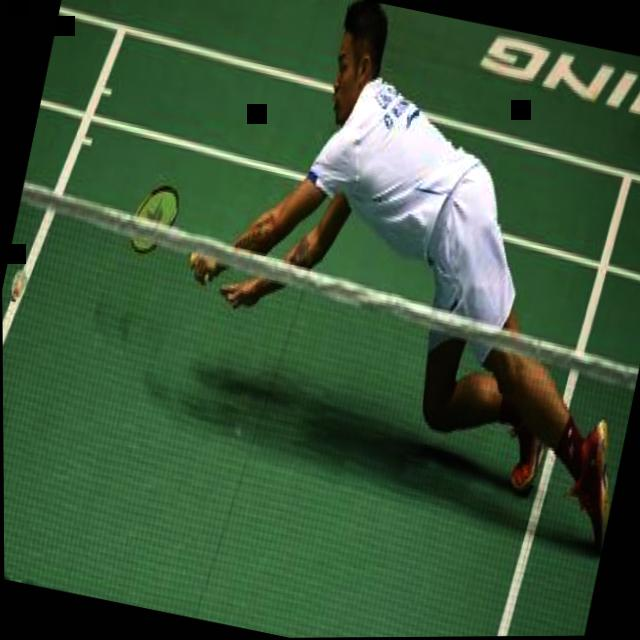Fall-Detected: (157, 0, 640, 531)
